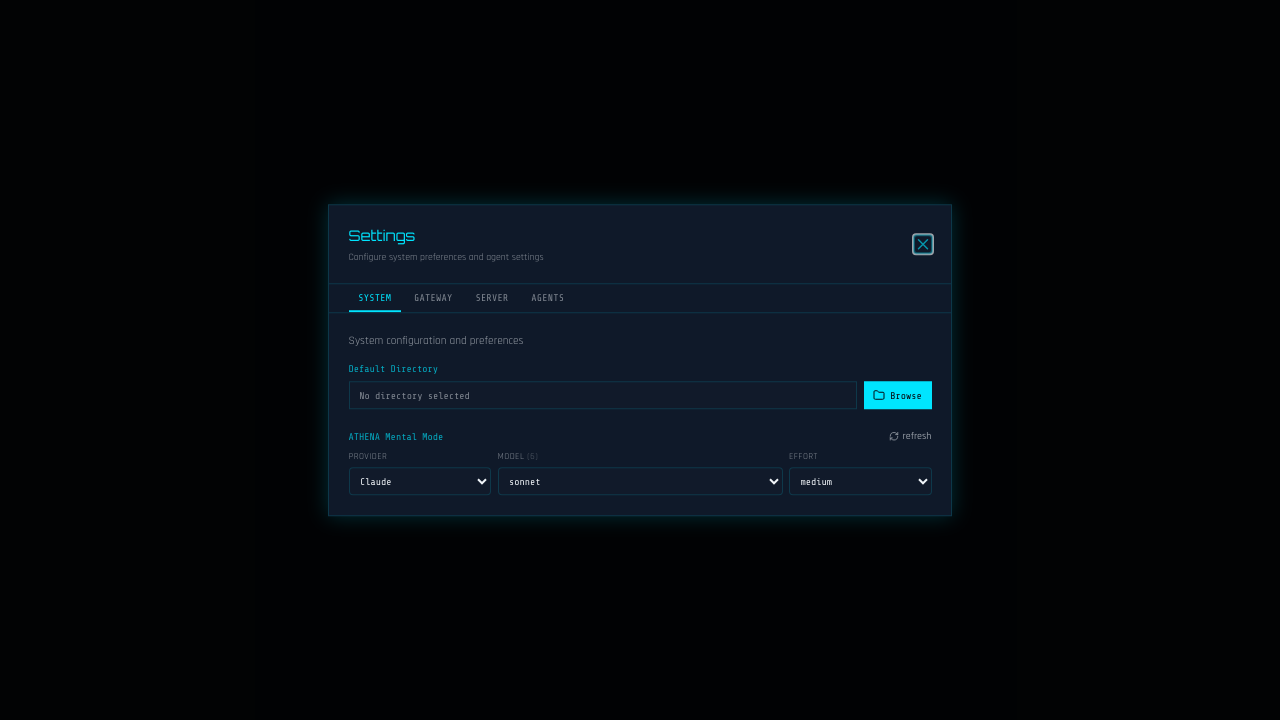
Test: SettingsModal and BottomBar › shows the server version returned by the readiness health check
The image size is (1280, 720).
Click the button "server".
click(492, 298)  # box [466, 284, 518, 312]
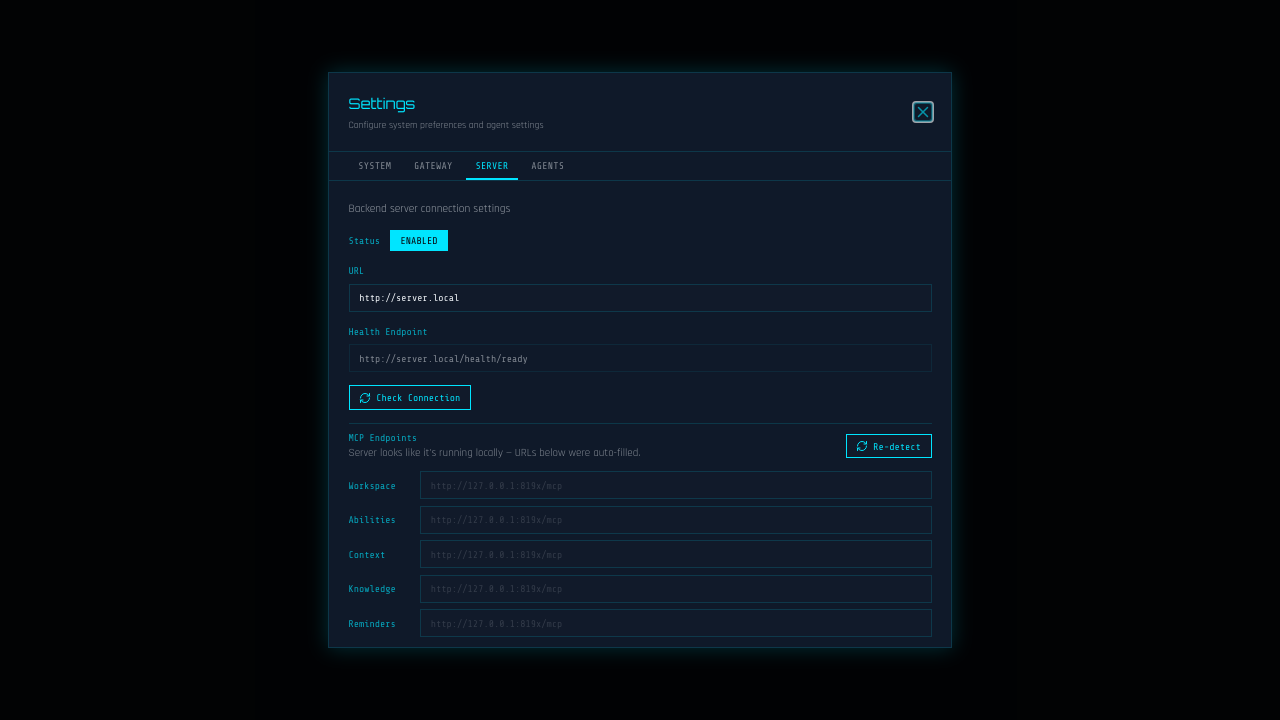
Click the button "Check Connection".
click(410, 398)  # box [348, 385, 471, 410]
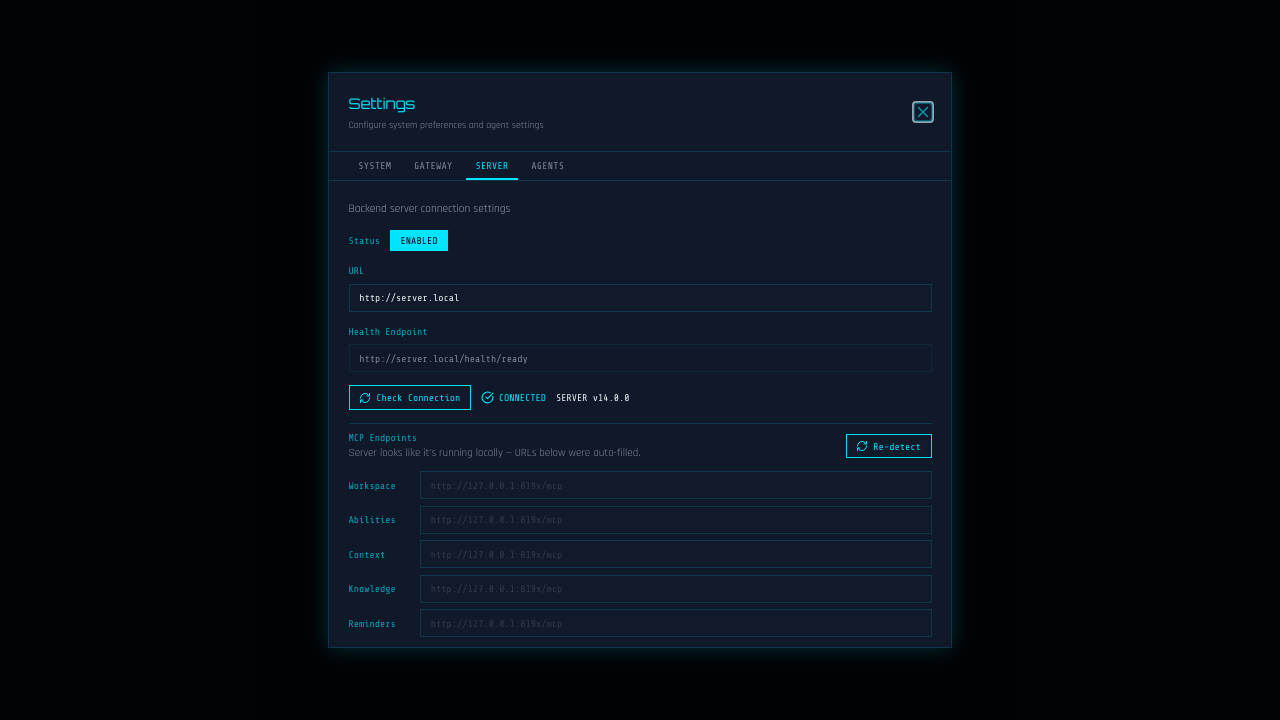
Check: the text "SERVER v14.0.0" is shown, box [556, 391, 630, 404]
